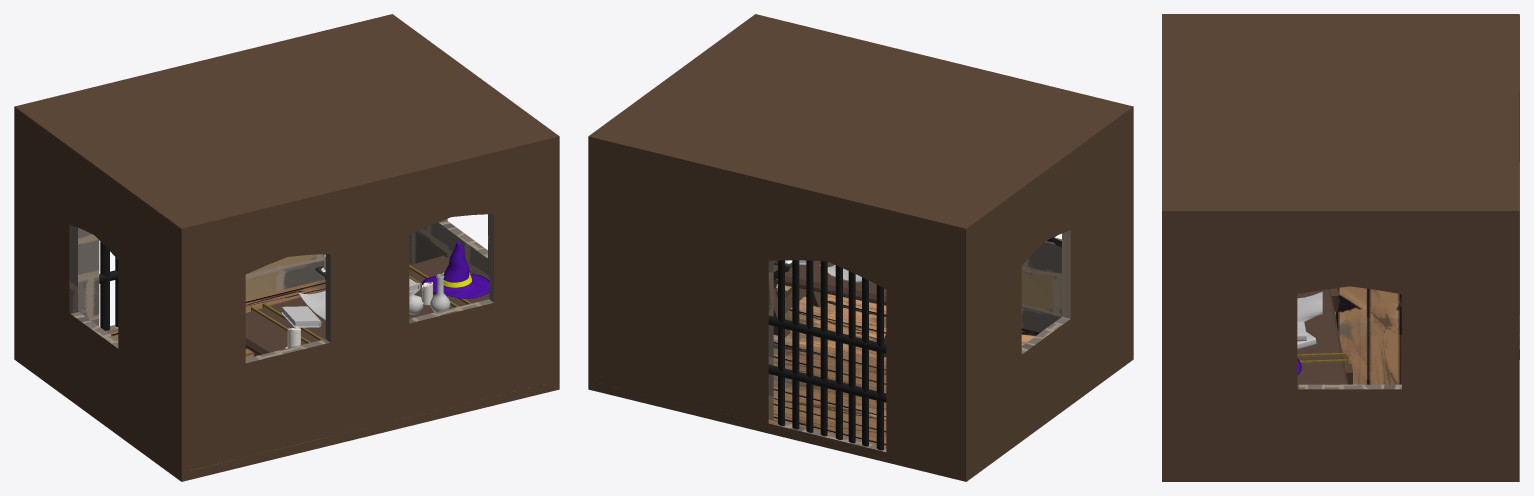
The model's file is Waiting Room.fbx.
3 views of the same model, side by side, from view 1: azimuth 30°, elevation 25°; view 2: azimuth 150°, elevation 25°; view 3: azimuth 270°, elevation 25° (orthographic). The views are drawn at different scales.
Visible parts, largest first — view 1: pCube19, pasted__pCube1, pasted__pCone1, pasted__polySurface354, pasted__pCube40; view 2: pCube19, pasted__polySurface354, pasted__pCube1; view 3: pCube19, pasted__pCube1, pasted__pCube41.
Boxes of the visible parts, x1,y1,x2,y2 form: pCube19: [14, 14, 559, 481]; pasted__pCube1: [245, 255, 489, 356]; pasted__pCone1: [422, 240, 489, 298]; pasted__polySurface354: [99, 241, 118, 330]; pasted__pCube40: [281, 306, 321, 327]; pCube19: [588, 14, 1133, 481]; pasted__polySurface354: [768, 260, 886, 450]; pasted__pCube1: [773, 260, 886, 357]; pCube19: [1162, 14, 1519, 481]; pasted__pCube1: [1297, 288, 1352, 384]; pasted__pCube41: [1297, 291, 1322, 321].
Bounding box in the file's own units: 13.88 × 8.88 × 10.63.
